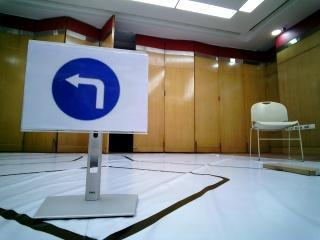left: (30, 43, 141, 127)
